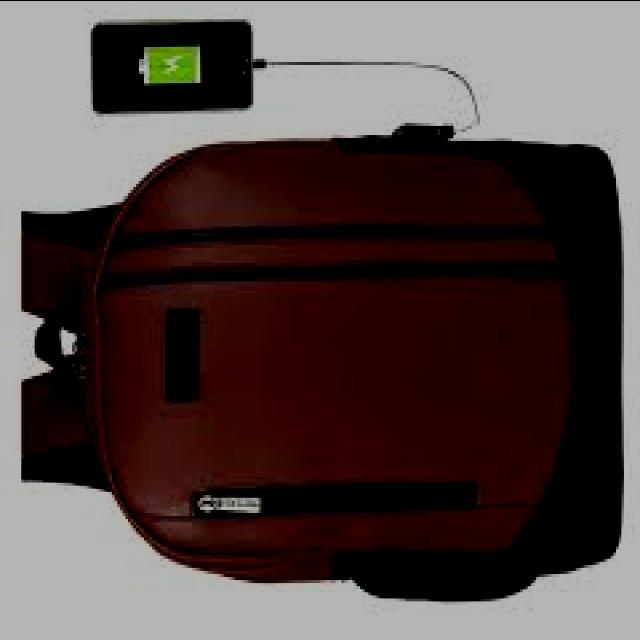backpack: (17, 123, 623, 605)
